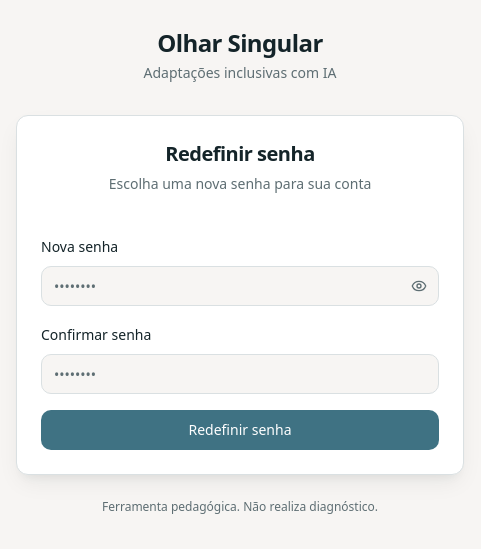
it: ResetPasswordPage › rejects a password shorter than 6 characters
In the password field labelled "Nova senha": point(240, 286) [41,266,439,306], type "123"
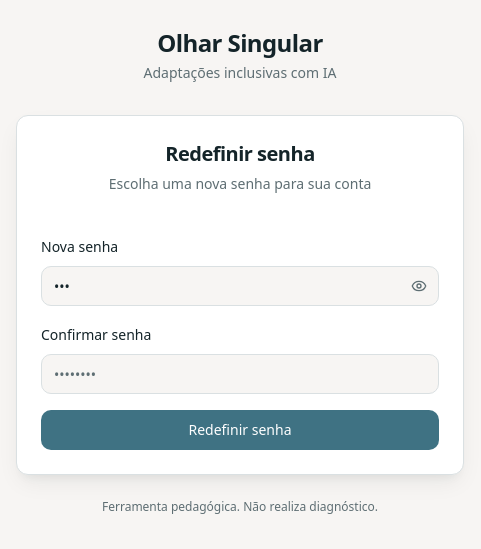
In the password field labelled "Confirmar senha": point(240, 374) [41,354,439,394], type "123"
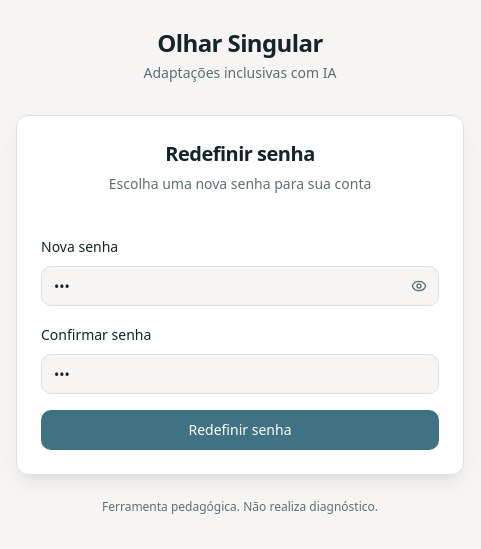
Click the button "Redefinir senha": point(240, 430) [41,410,439,450]
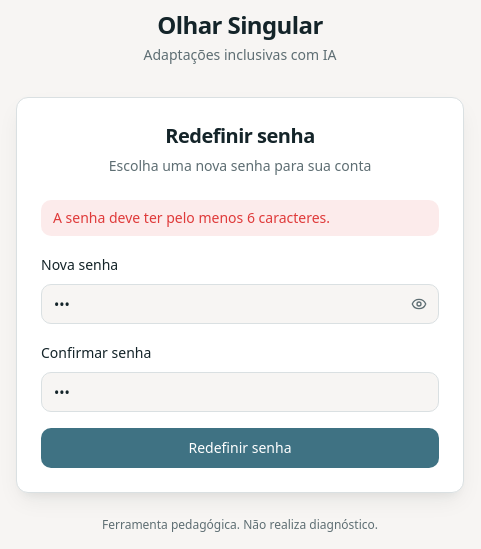
Result: the message shows "pelo menos 6 caracteres" at [53,208,330,227]
